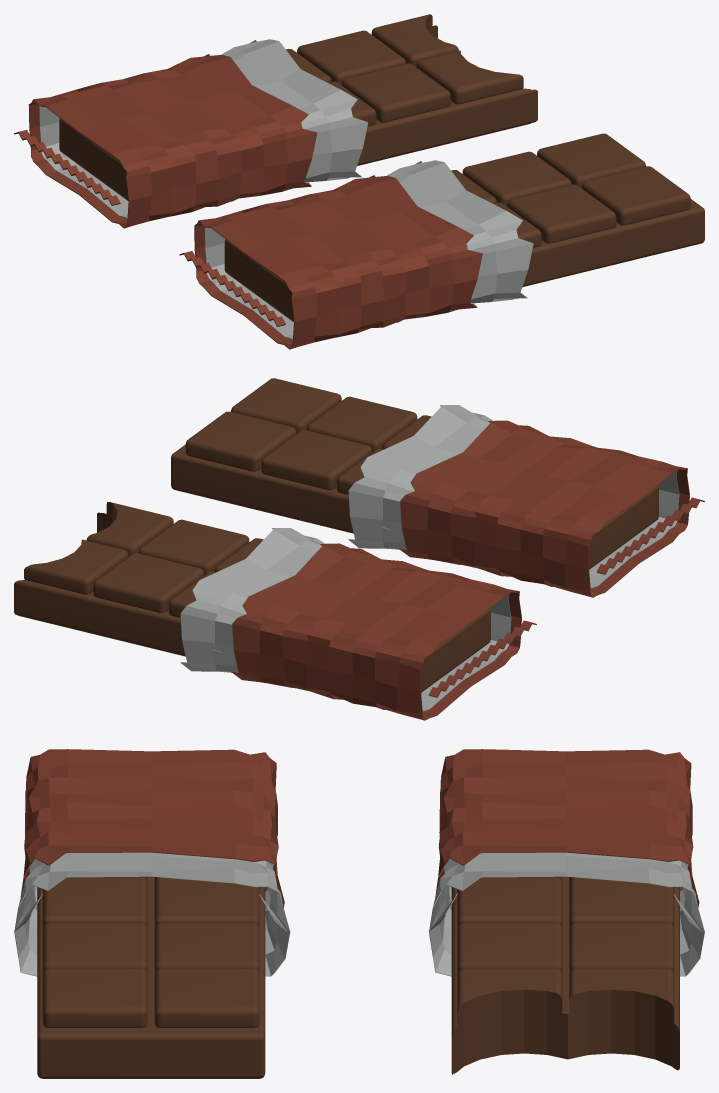
Rendered from candy_variants.glb.
3 views of the same model, one above another, from view 1: azimuth 30°, elevation 25°; view 2: azimuth 150°, elevation 25°; view 3: azimuth 270°, elevation 25° (orthographic). The views are drawn at different scales.
Visible parts, largest first — view 1: CandyBitten_Candy_WornWrapper, CandyReady_Candy_WornWrapper, CandyReady_Candy_Chocolate, CandyBitten_Candy_Chocolate, CandyBitten_Candy_InnerFoil, CandyReady_Candy_InnerFoil; view 2: CandyReady_Candy_WornWrapper, CandyBitten_Candy_WornWrapper, CandyReady_Candy_Chocolate, CandyBitten_Candy_Chocolate, CandyReady_Candy_InnerFoil, CandyBitten_Candy_InnerFoil; view 3: CandyReady_Candy_Chocolate, CandyBitten_Candy_Chocolate, CandyBitten_Candy_WornWrapper, CandyReady_Candy_WornWrapper, CandyReady_Candy_InnerFoil, CandyBitten_Candy_InnerFoil.
Part boxes in pixels (x1,y1,x2,y2): CandyBitten_Candy_WornWrapper: [14, 54, 317, 228]; CandyReady_Candy_WornWrapper: [179, 175, 482, 349]; CandyReady_Candy_Chocolate: [224, 133, 704, 322]; CandyBitten_Candy_Chocolate: [59, 14, 537, 201]; CandyBitten_Candy_InnerFoil: [39, 39, 368, 218]; CandyReady_Candy_InnerFoil: [204, 160, 533, 339]; CandyReady_Candy_WornWrapper: [399, 420, 704, 597]; CandyBitten_Candy_WornWrapper: [231, 543, 536, 720]; CandyReady_Candy_Chocolate: [171, 378, 658, 569]; CandyBitten_Candy_Chocolate: [14, 502, 490, 692]; CandyReady_Candy_InnerFoil: [348, 405, 679, 588]; CandyBitten_Candy_InnerFoil: [180, 528, 511, 711]; CandyReady_Candy_Chocolate: [37, 876, 265, 1078]; CandyBitten_Candy_Chocolate: [451, 876, 679, 1074]; CandyBitten_Candy_WornWrapper: [435, 749, 699, 907]; CandyReady_Candy_WornWrapper: [20, 749, 284, 907]; CandyReady_Candy_InnerFoil: [14, 852, 290, 976]; CandyBitten_Candy_InnerFoil: [428, 852, 704, 976].
Size of the model in its own units: 0.151 by 0.0286 by 0.1667.
